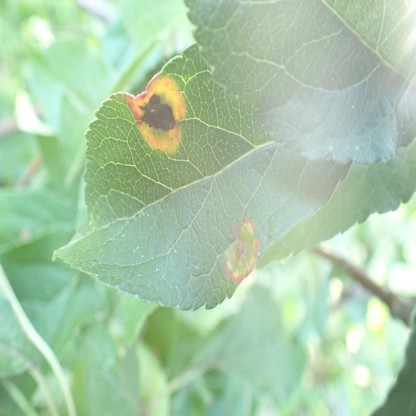rust: (126, 76, 187, 156), (226, 218, 260, 282)
